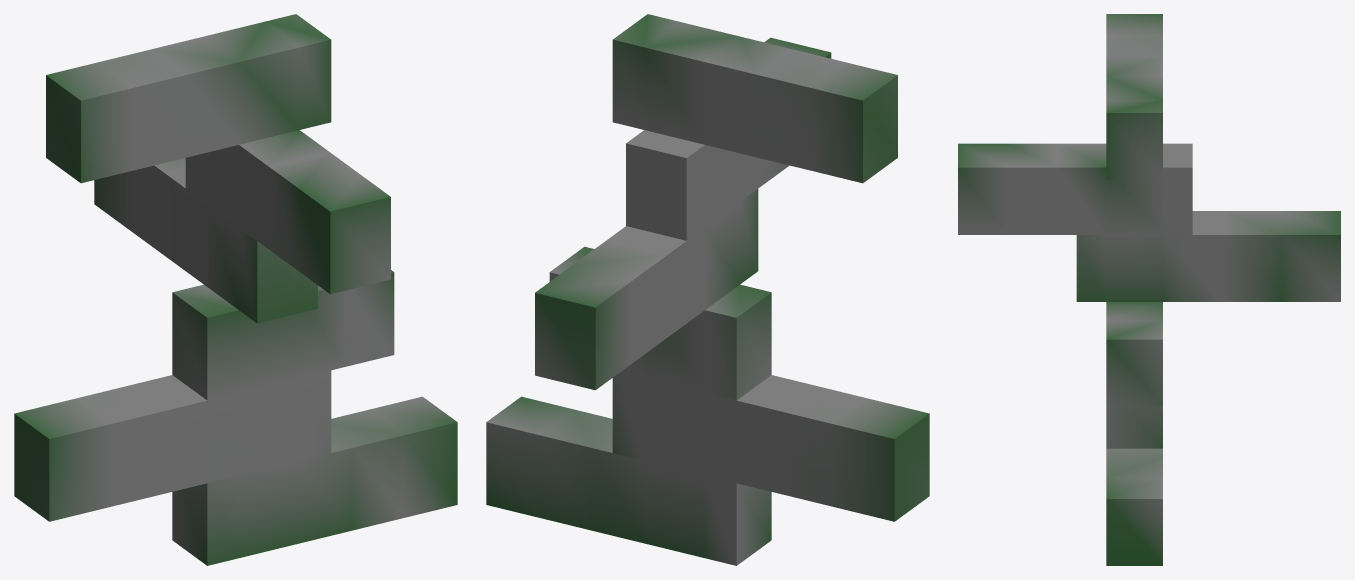
Rendered from ruin_05.fbx.
3 renders of one model, left to right at view 1: azimuth 30°, elevation 25°; view 2: azimuth 150°, elevation 25°; view 3: azimuth 270°, elevation 25°, orthographic. The views are drawn at different scales.
Parts seen in each view (by area): view 1: Ruin_05; view 2: Ruin_05; view 3: Ruin_05.
Part boxes in pixels (x1,y1,x2,y2): Ruin_05: (14,14,457,565); Ruin_05: (486,14,929,565); Ruin_05: (958,14,1340,565).
Bounding box in the file's own units: 12920 × 15000 × 12920.
